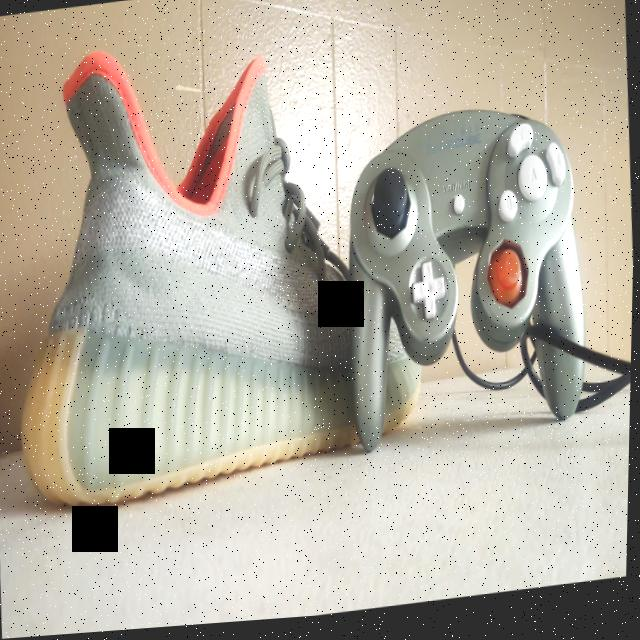shoes: (7, 13, 438, 515)
